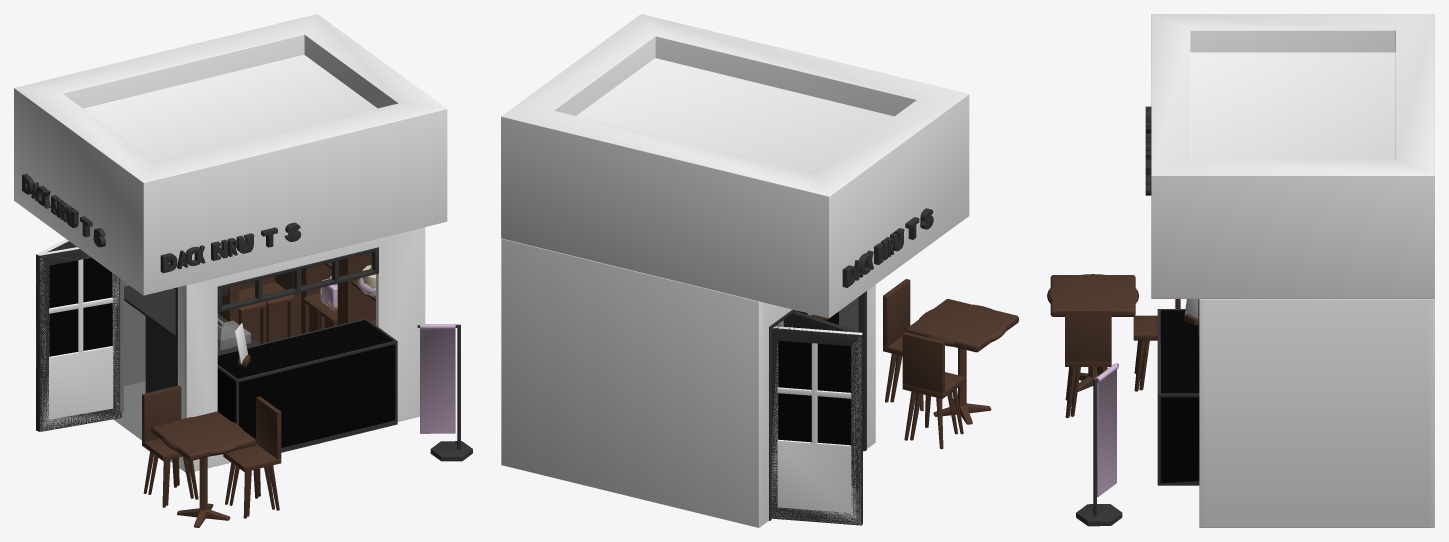
The model's file is Donut_Cake_Modell.fbx.
3 views of the same model, side by side, from view 1: azimuth 30°, elevation 25°; view 2: azimuth 150°, elevation 25°; view 3: azimuth 270°, elevation 25° (orthographic). The views are drawn at different scales.
Visible parts, largest first — view 1: Roof, Wall, Glas_3, StuhlB, Schrank, Tuerrahmen_2, Vitrine, Glas, Tuerrahmen, Stoff, StuhlA, Rahmen (+6 smaller); view 2: Roof, Wall, StuhlB, Tuerrahmen_2, Glas, Tuerrahmen, StuhlA, Rahmen, Donuts, BAKERY; view 3: Roof, Wall, StuhlB, Glas_3, Stoff, StuhlA, Staender, Vitrine, Donuts.
Part boxes in pixels (box(x1,y1,x2,y2)): Roof: box(14, 14, 447, 295); Wall: box(124, 227, 425, 472); Glas_3: box(217, 320, 395, 447); StuhlB: box(142, 385, 281, 525); Schrank: box(217, 252, 375, 343); Tuerrahmen_2: box(36, 239, 122, 431); Vitrine: box(124, 285, 397, 452); Glas: box(49, 258, 112, 356); Tuerrahmen: box(36, 241, 122, 431); Stoff: box(420, 323, 455, 433); StuhlA: box(148, 416, 274, 527); Rahmen: box(174, 247, 378, 385); Roof: box(501, 14, 969, 318); Wall: box(501, 238, 875, 527); StuhlB: box(883, 279, 1018, 449); Tuerrahmen_2: box(771, 326, 862, 524); Glas: box(778, 325, 850, 445); Tuerrahmen: box(771, 311, 862, 525); StuhlA: box(890, 304, 1007, 443); Rahmen: box(769, 291, 866, 520); Donuts: box(843, 208, 933, 287); BAKERY: box(842, 228, 904, 287); Roof: box(1151, 14, 1434, 298); Wall: box(1199, 299, 1434, 527); StuhlB: box(1050, 275, 1180, 418); Glas_3: box(1160, 310, 1199, 483); Stoff: box(1095, 363, 1118, 497); StuhlA: box(1047, 274, 1157, 416); Staender: box(1076, 363, 1122, 526); Vitrine: box(1157, 309, 1199, 485); Donuts: box(1145, 106, 1151, 195).
Size of the model in its own units: 20 by 20 by 19.94.
